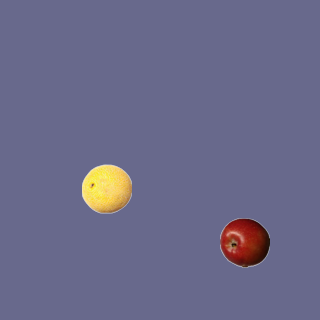Apple Braeburn: (219, 217, 269, 267)
Cantaloupe 1: (81, 163, 131, 213)
